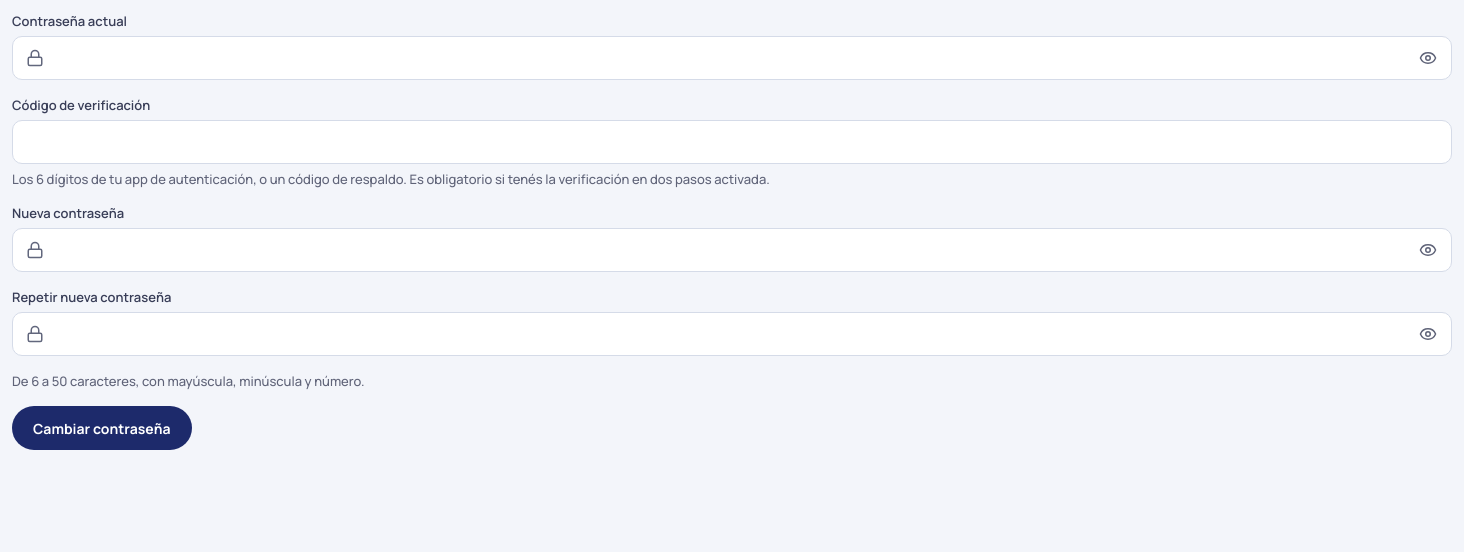
Test: PasswordChangeForm › shows field errors and a form-level alert from the server
The width and height of the screenshot is (1464, 552).
Type "Actual1" into the password field labelled "Contraseña actual".
click(732, 58); type("Actual1")  # box top-left (12, 36), bottom-right (1452, 80)
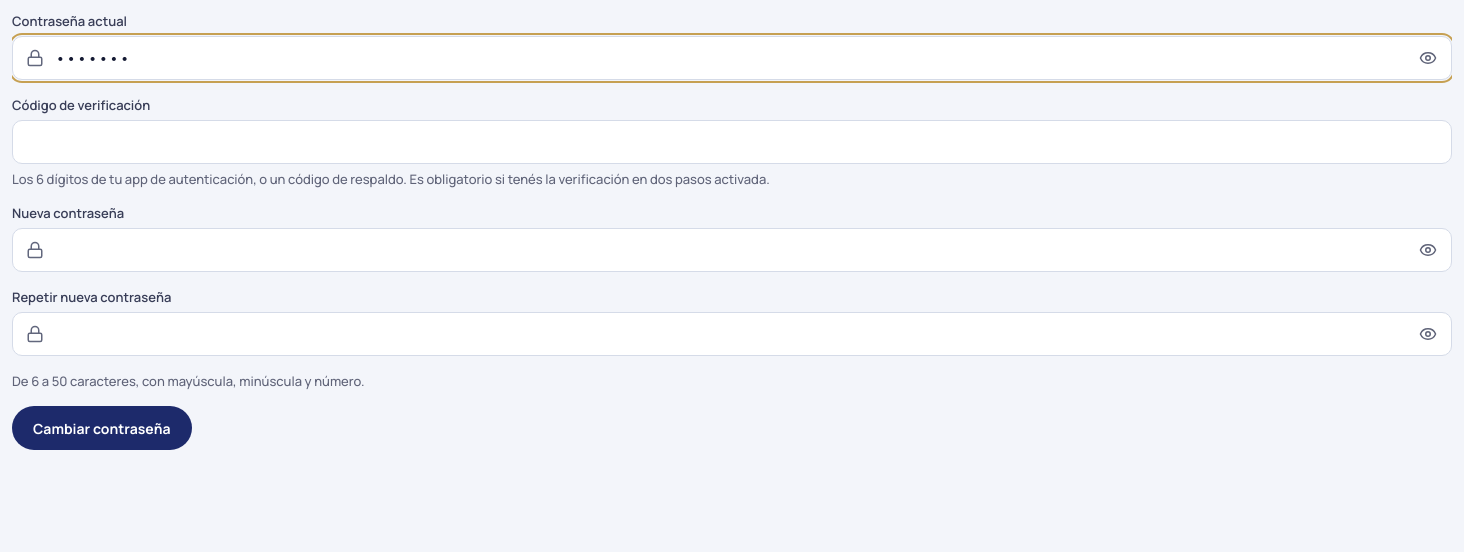
Type "Nueva123" into the password field labelled "Nueva contraseña".
click(732, 250); type("Nueva123")  # box top-left (12, 228), bottom-right (1452, 272)
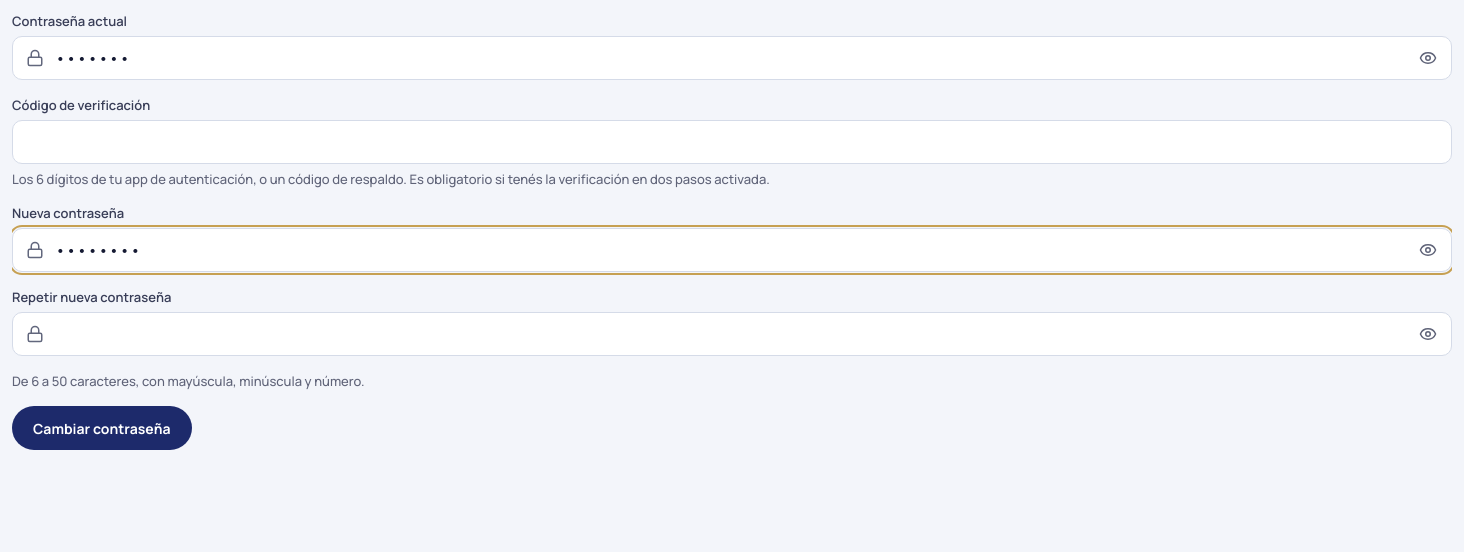
Type "Nueva123" into the password field labelled "Repetir nueva contraseña".
click(732, 334); type("Nueva123")  # box top-left (12, 312), bottom-right (1452, 356)
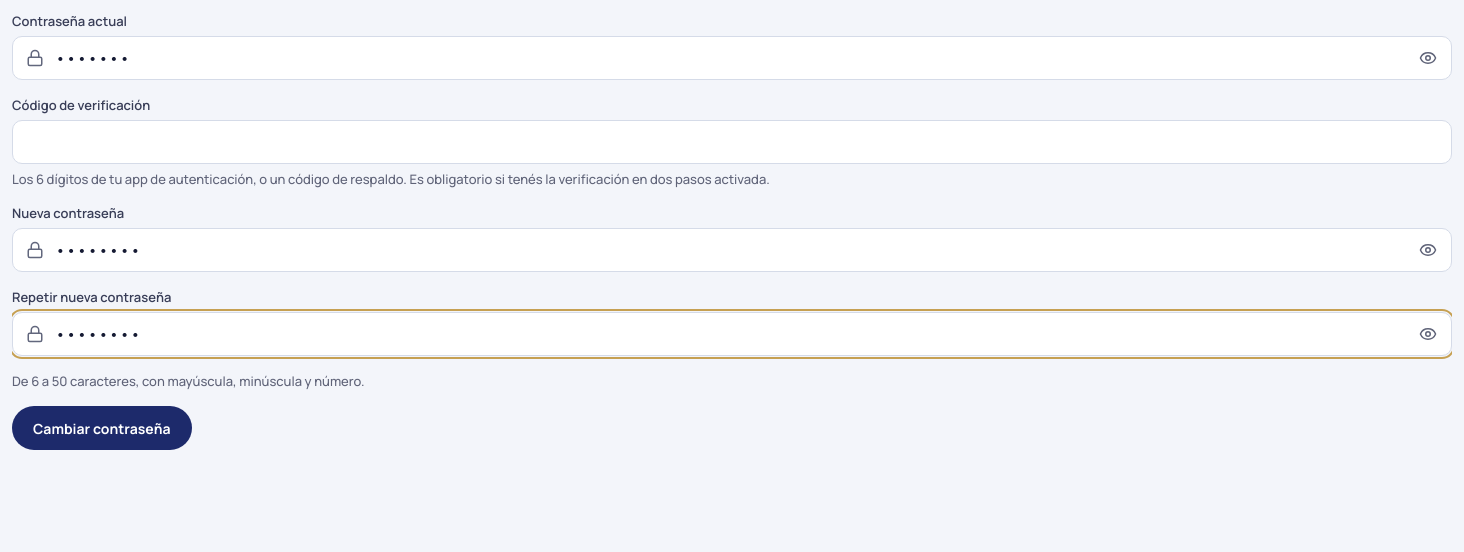
Type "123456" into the field labelled "Código de verificación".
click(732, 142); type("123456")  # box top-left (12, 120), bottom-right (1452, 164)
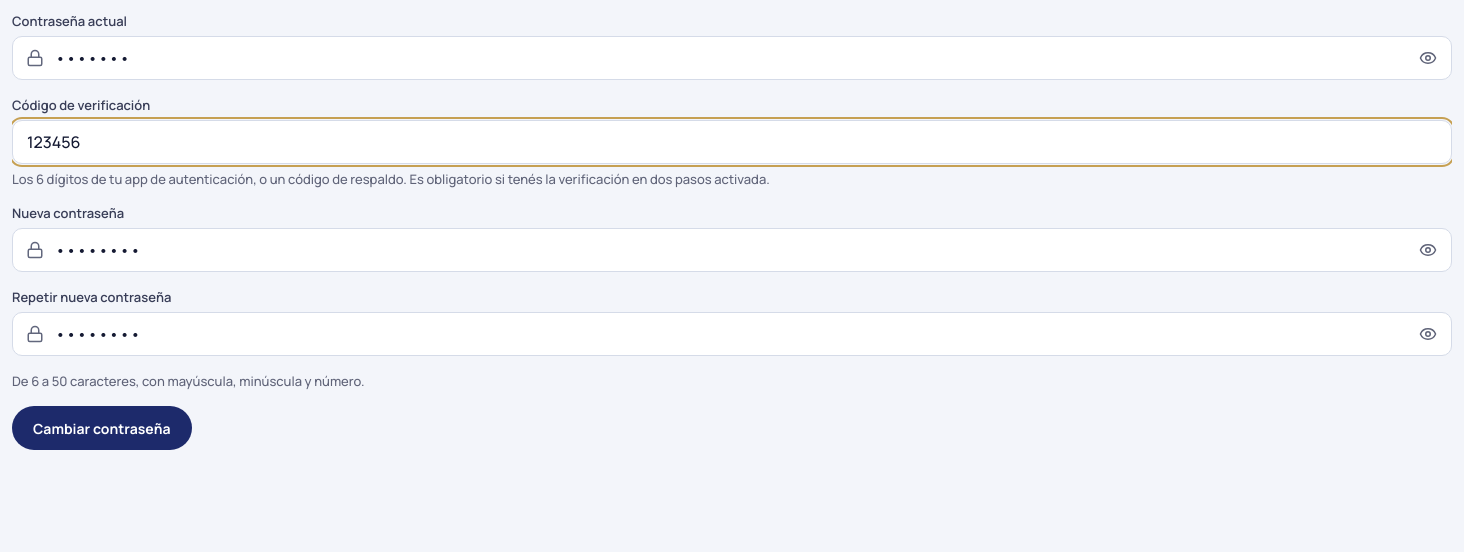
Click the button "Cambiar contraseña".
click(102, 428)  # box top-left (12, 406), bottom-right (192, 450)
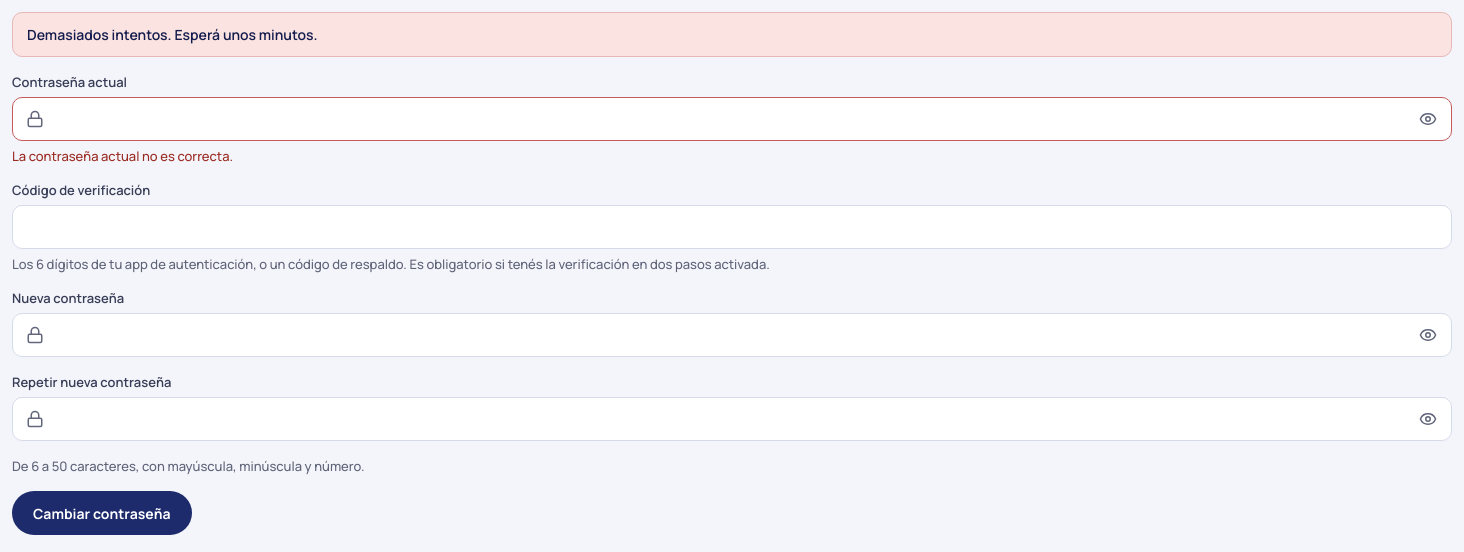
expect the text "La contraseña actual no es correcta." is shown: met, box top-left (12, 147), bottom-right (233, 165)
expect the message shows "Demasiados intentos": met, box top-left (27, 25), bottom-right (318, 44)
